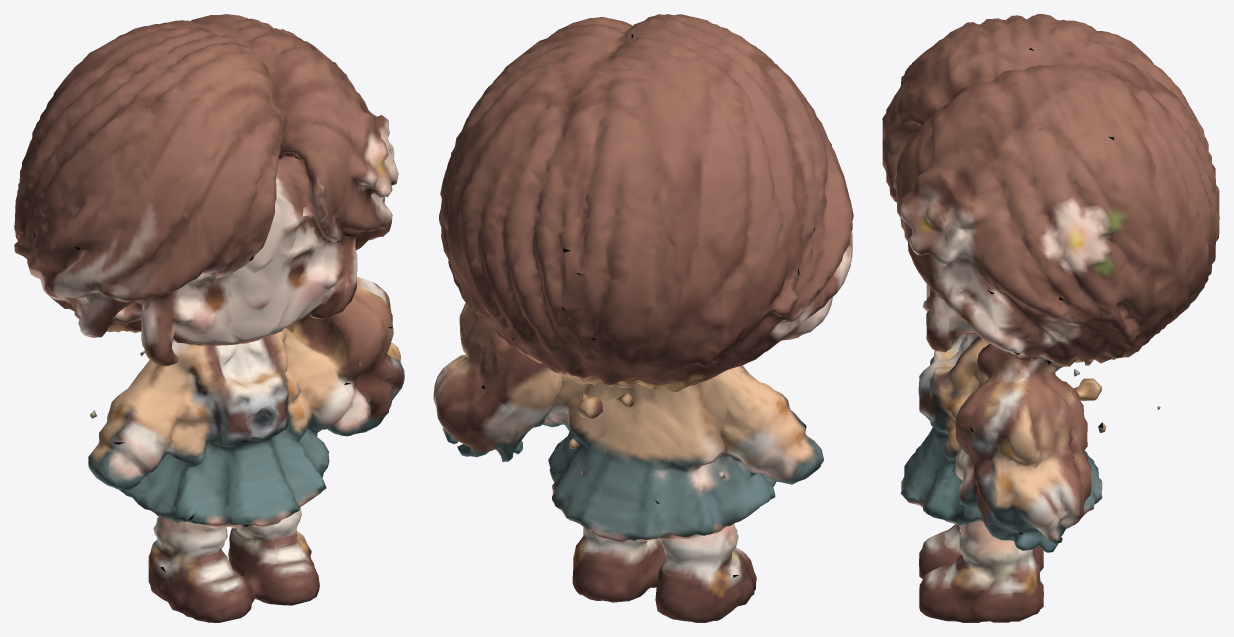
Rendered from tangli-reference-prototype-v1.glb.
3 renders of one model, left to right at view 1: azimuth 30°, elevation 25°; view 2: azimuth 150°, elevation 25°; view 3: azimuth 270°, elevation 25°, orthographic. The views are drawn at different scales.
Parts seen in each view (by area): view 1: TangLi_ReferenceStyle_Prototype; view 2: TangLi_ReferenceStyle_Prototype; view 3: TangLi_ReferenceStyle_Prototype.
Part boxes in pixels (bbox=[...]): TangLi_ReferenceStyle_Prototype: bbox=[14, 14, 404, 622]; TangLi_ReferenceStyle_Prototype: bbox=[433, 14, 853, 622]; TangLi_ReferenceStyle_Prototype: bbox=[882, 14, 1219, 622].
Bounding box in the file's own units: 1.41 × 2.01 × 1.11.
1 material, 1 textured.
